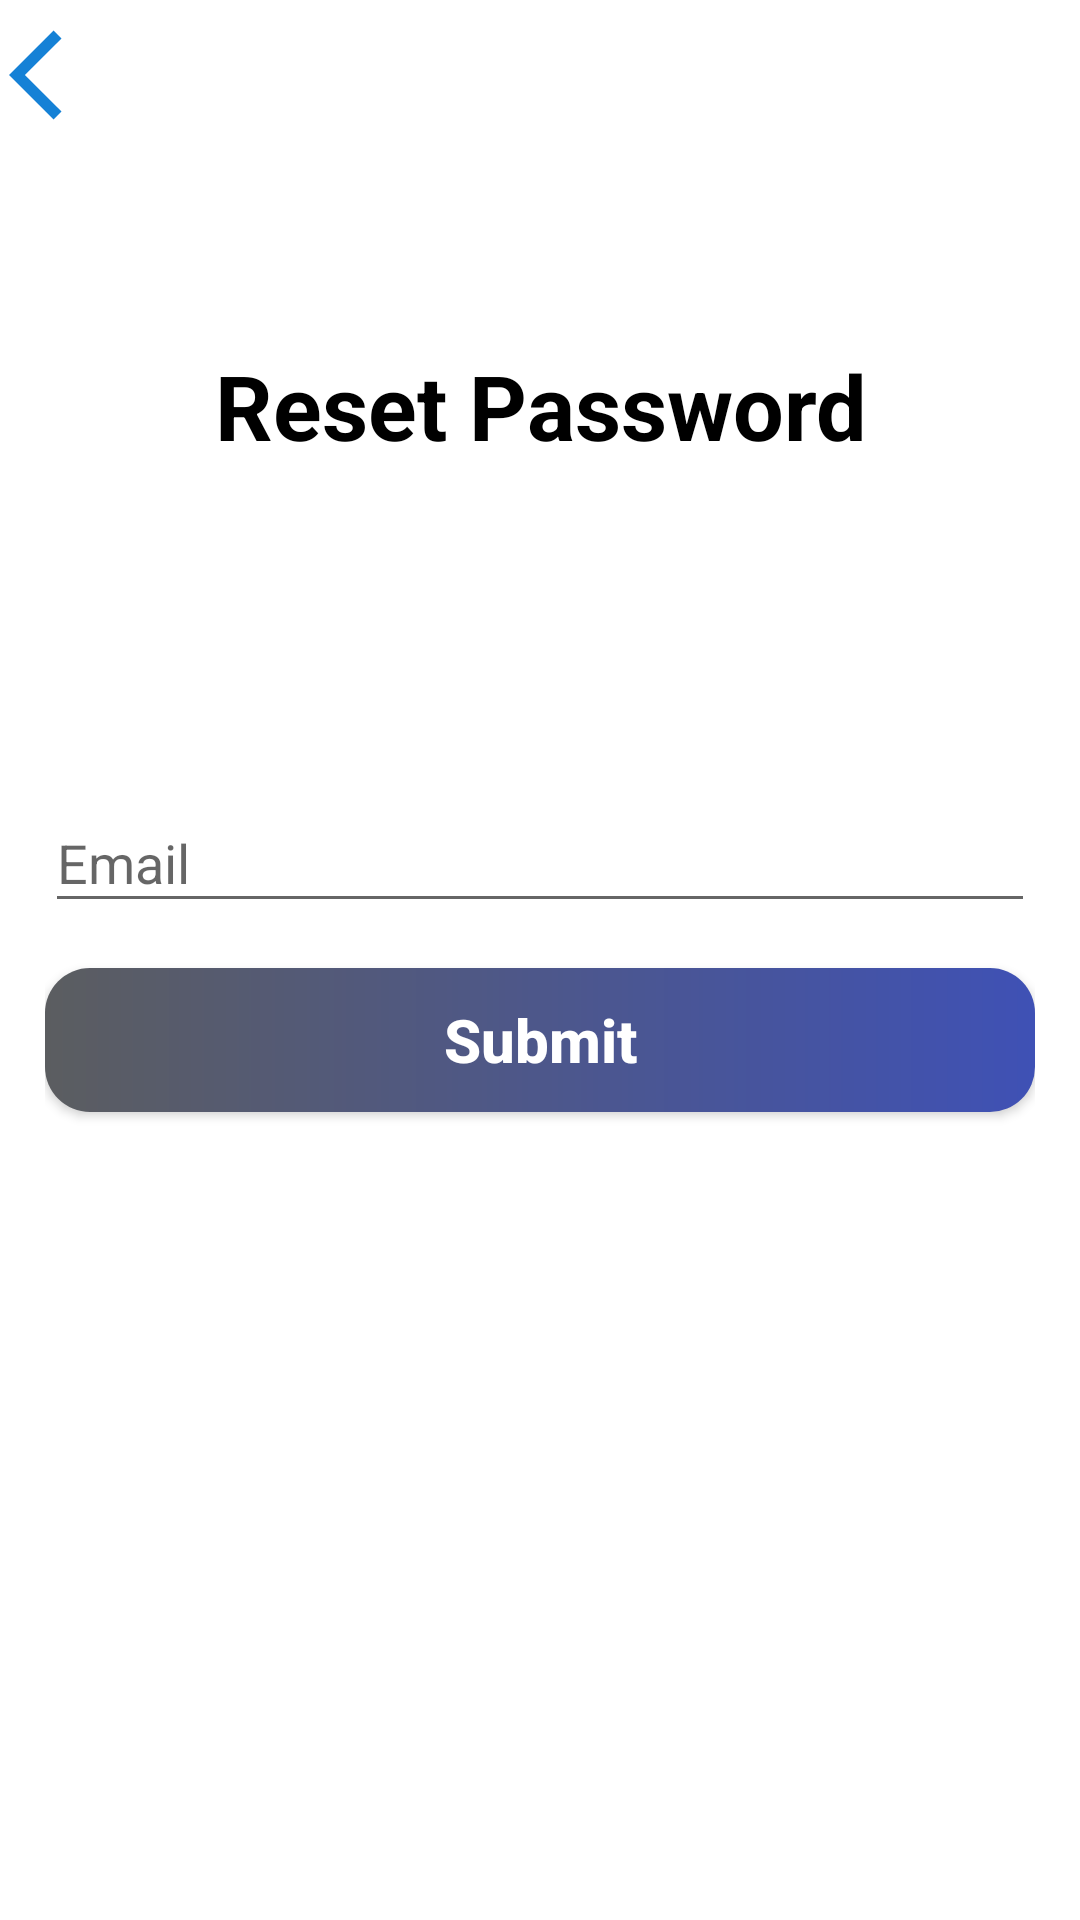

Locate icon controls on the screen. Image size 1080*1920, boxes as box=[x1, y1, x2, y2].
backicon: box=[9, 30, 62, 120]
